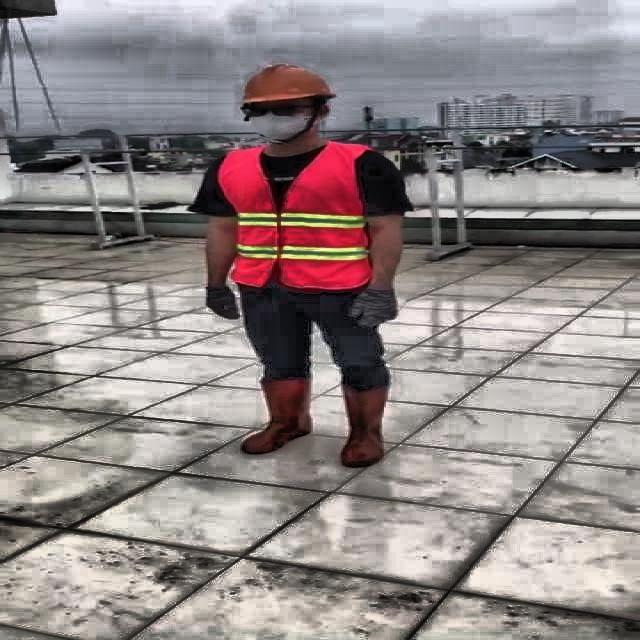safety_helmet: (230, 60, 338, 104)
safety_jacket: (216, 141, 372, 288)
